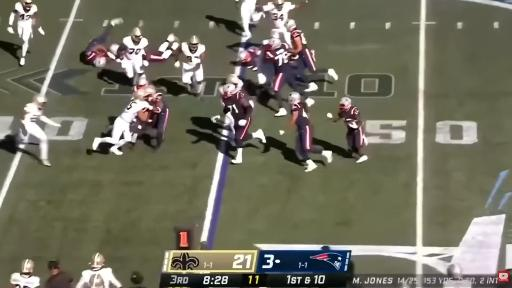Helmet: (93, 253, 107, 269), (288, 92, 303, 105), (223, 84, 238, 97), (188, 36, 200, 52), (338, 96, 351, 110), (131, 28, 143, 43), (22, 259, 33, 275), (271, 36, 284, 49), (35, 95, 47, 109), (226, 73, 238, 85), (285, 20, 298, 31), (271, 0, 284, 10), (109, 43, 119, 55), (94, 57, 106, 67), (239, 50, 249, 62), (145, 87, 154, 100), (138, 78, 148, 89), (22, 0, 33, 9), (134, 90, 145, 99)
Jersey: (222, 91, 251, 122), (263, 2, 296, 28), (77, 268, 121, 287), (265, 44, 290, 73), (119, 100, 151, 122), (181, 42, 205, 69), (123, 36, 148, 59), (339, 106, 362, 130), (15, 2, 37, 25), (291, 29, 307, 60), (292, 103, 309, 129), (242, 47, 261, 70), (10, 273, 40, 287), (86, 46, 108, 63), (23, 103, 42, 122), (242, 0, 257, 5)
Player: (93, 87, 155, 155), (220, 84, 266, 163), (289, 92, 332, 171), (265, 39, 304, 116), (22, 95, 60, 166), (334, 98, 368, 163), (262, 0, 307, 44), (8, 0, 37, 65), (85, 18, 123, 67), (175, 36, 205, 95), (287, 20, 317, 79), (76, 253, 122, 287), (122, 28, 148, 85), (239, 47, 273, 85), (235, 0, 263, 37), (152, 93, 169, 150), (146, 34, 179, 62), (10, 259, 40, 287), (226, 74, 243, 91), (134, 75, 148, 91)
